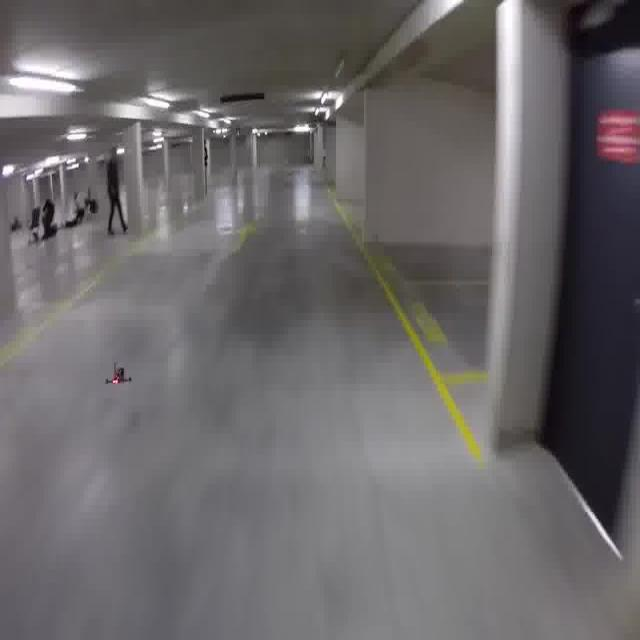Drone_FW: (98, 359, 137, 390)
